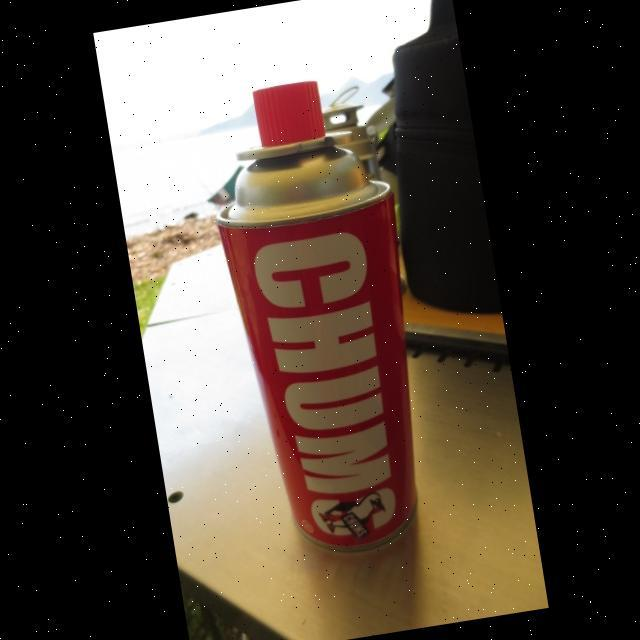chemical_spray_can: (184, 54, 460, 592)
